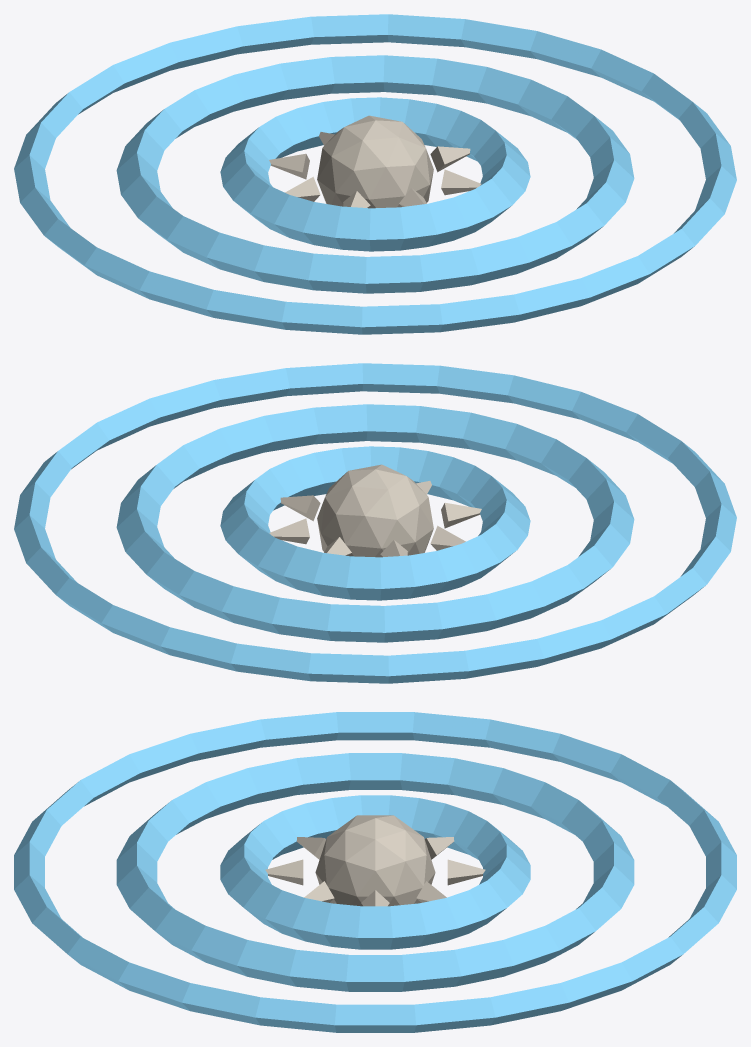
File: GearShockwave.obj
The picture shows the model from 3 angles, top to bottom: view 1: azimuth 30°, elevation 25°; view 2: azimuth 150°, elevation 25°; view 3: azimuth 270°, elevation 25°; orthographic projection.
Visible parts, largest first — view 1: GearShockwave; view 2: GearShockwave; view 3: GearShockwave.
Part boxes in pixels (<box>): GearShockwave: <box>14,14,736,334</box>; GearShockwave: <box>14,363,736,683</box>; GearShockwave: <box>14,712,736,1032</box>.
Size of the model in its own units: 0.6022 by 0.1 by 0.6022.
